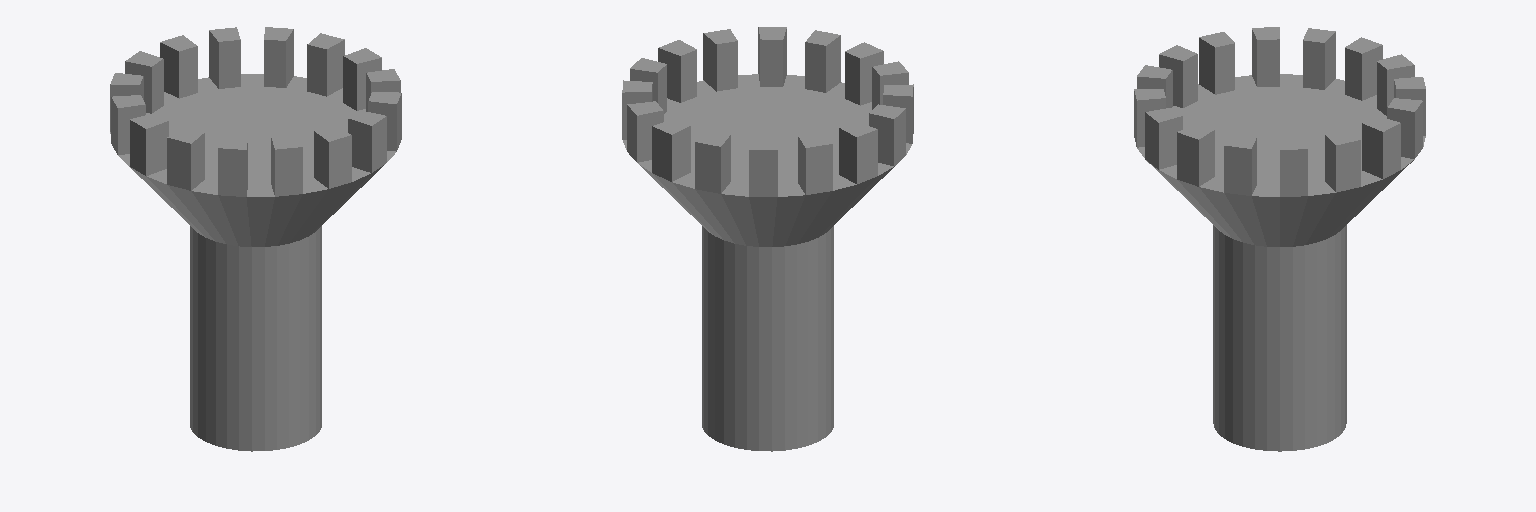
File: StrongTower.obj
The picture shows the model from 3 angles: view 1: azimuth 30°, elevation 25°; view 2: azimuth 150°, elevation 25°; view 3: azimuth 270°, elevation 25°; orthographic projection.
Parts seen in each view (by area): view 1: Cylinder; view 2: Cylinder; view 3: Cylinder.
Boxes of the visible parts, box(x1,y1,x2,y2) form: Cylinder: box(110, 27, 401, 451); Cylinder: box(622, 27, 913, 451); Cylinder: box(1134, 27, 1425, 451).
Bounding box in the file's own units: 1.58 × 1.99 × 1.58.